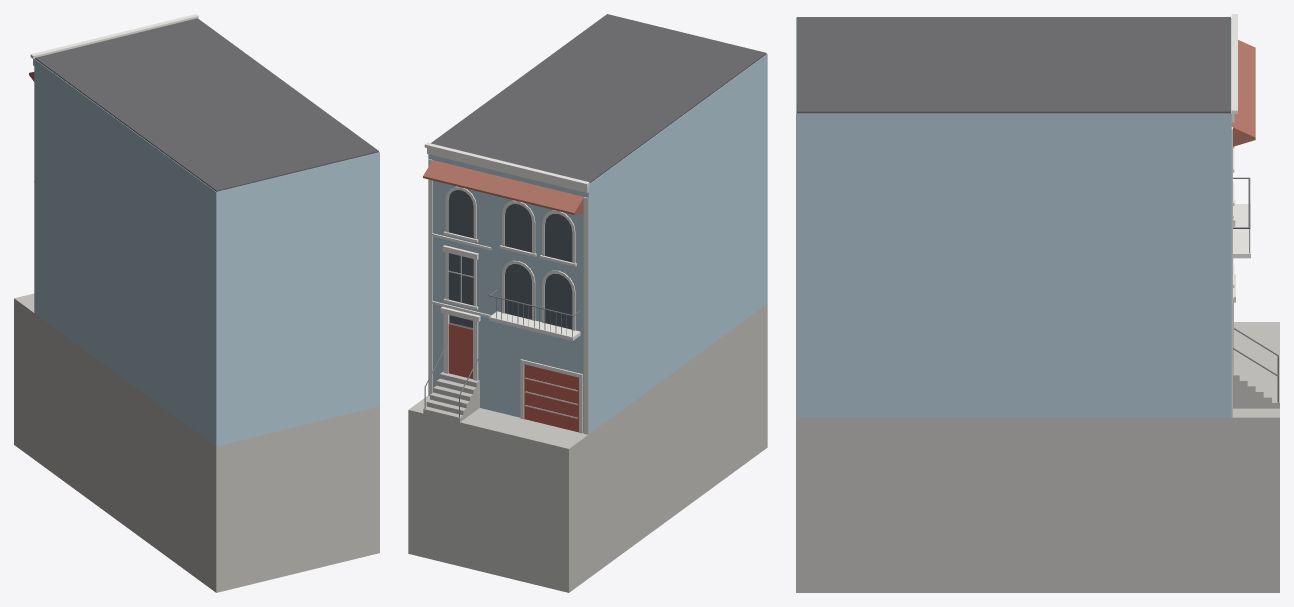
Rendered from house_stucco.glb.
3 renders of one model, left to right at view 1: azimuth 30°, elevation 25°; view 2: azimuth 150°, elevation 25°; view 3: azimuth 270°, elevation 25°, orthographic. The views are drawn at different scales.
Visible parts, largest first — view 1: Walls, Base, Roof, Trim; view 2: Walls, Base, Roof, Trim, Glass, Accent, Tiles, Railings; view 3: Walls, Base, Roof, Trim, Tiles.
Boxes of the visible parts, bbox=[...] form: Walls: bbox=[34, 59, 379, 446]; Base: bbox=[14, 293, 379, 592]; Roof: bbox=[35, 18, 378, 191]; Trim: bbox=[30, 14, 198, 65]; Walls: bbox=[428, 54, 767, 434]; Base: bbox=[408, 304, 767, 592]; Roof: bbox=[431, 14, 766, 183]; Trim: bbox=[424, 142, 589, 434]; Glass: bbox=[448, 190, 572, 329]; Accent: bbox=[448, 324, 578, 432]; Tiles: bbox=[423, 160, 583, 214]; Railings: bbox=[424, 290, 580, 417]; Walls: bbox=[796, 18, 1231, 417]; Base: bbox=[796, 322, 1279, 592]; Roof: bbox=[796, 17, 1230, 113]; Trim: bbox=[1231, 14, 1250, 417]; Tiles: bbox=[1231, 40, 1255, 146].
Bounding box in the file's own units: 7.08 × 16.52 × 15.
